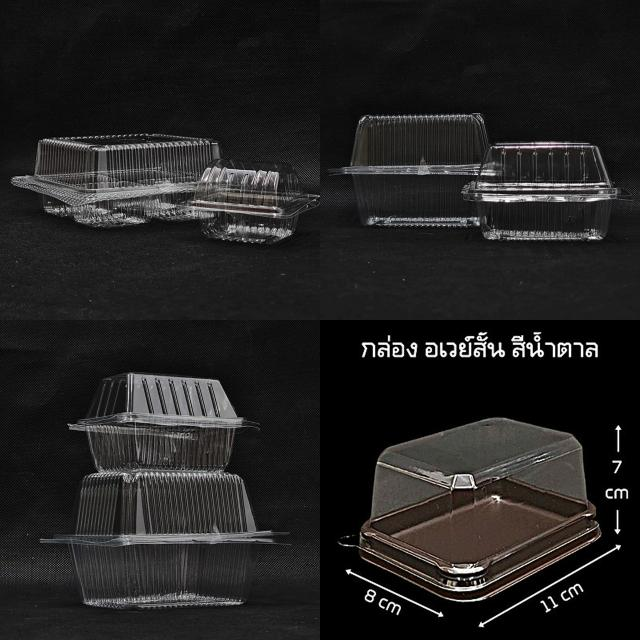Single-Use-Plastic: (359, 418, 599, 601), (42, 471, 275, 609), (11, 134, 221, 227), (69, 372, 258, 471), (329, 114, 489, 227), (462, 142, 630, 239), (189, 159, 319, 244)
